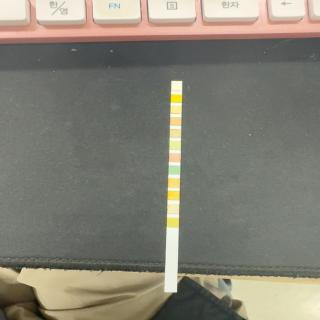mark: (168, 178, 180, 188), (167, 218, 179, 227), (167, 204, 179, 213), (169, 153, 181, 162), (169, 140, 181, 149), (170, 105, 182, 114), (168, 191, 179, 200), (170, 117, 181, 126), (171, 94, 182, 103), (170, 129, 180, 138), (169, 166, 180, 174), (171, 82, 182, 90)
